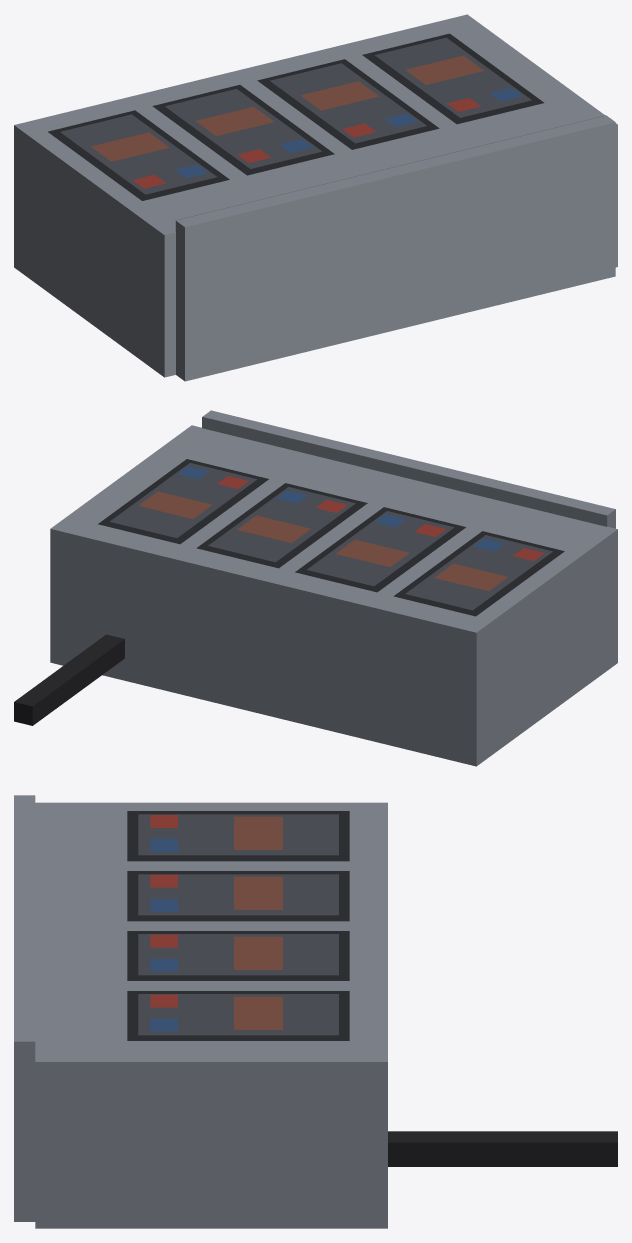
The model's file is bank_wall_premium_c4_S.obj.
3 views of the same model, one above another, from view 1: azimuth 30°, elevation 25°; view 2: azimuth 150°, elevation 25°; view 3: azimuth 270°, elevation 25° (orthographic). The views are drawn at different scales.
Visible parts, largest first — view 1: bank_wall_premium_c4_S; view 2: bank_wall_premium_c4_S; view 3: bank_wall_premium_c4_S.
Boxes of the visible parts, left/top/right/bottom form: bank_wall_premium_c4_S: left=14, top=14, right=617, bottom=381; bank_wall_premium_c4_S: left=14, top=410, right=617, bottom=766; bank_wall_premium_c4_S: left=14, top=795, right=617, bottom=1228.
Bounding box in the file's own units: 0.8 × 0.2635 × 0.788.
Materials: 1 (1 with a texture image).
